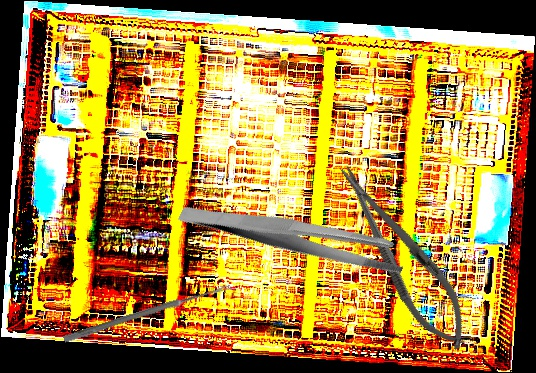Dressing Forceps: (177, 150, 412, 321)
Needle Holder: (323, 152, 484, 361)
Surgical Spoon: (63, 282, 231, 344)
